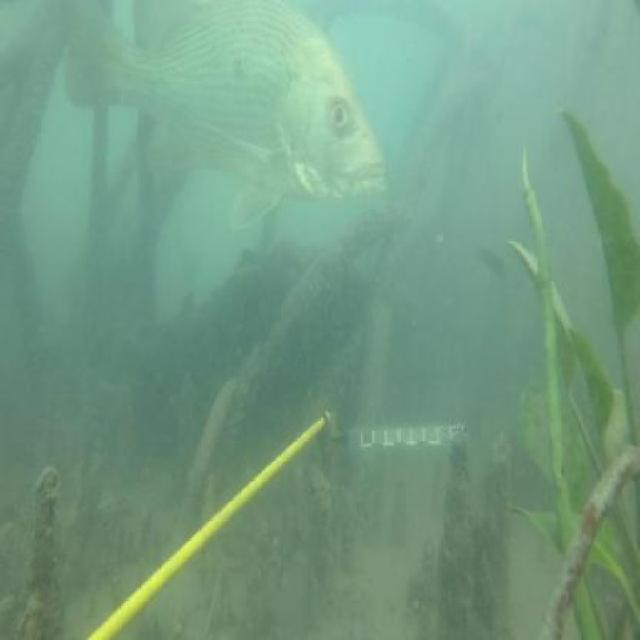lutjanus_johnii: (62, 0, 388, 238)
